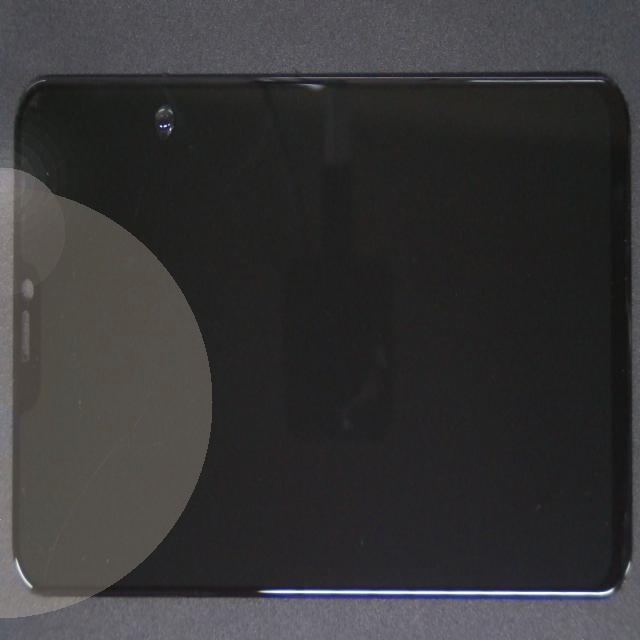oil: (88, 31, 233, 159)
